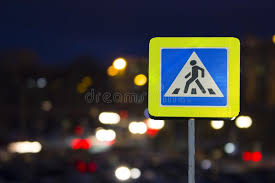pedestrian: (150, 37, 236, 115)
